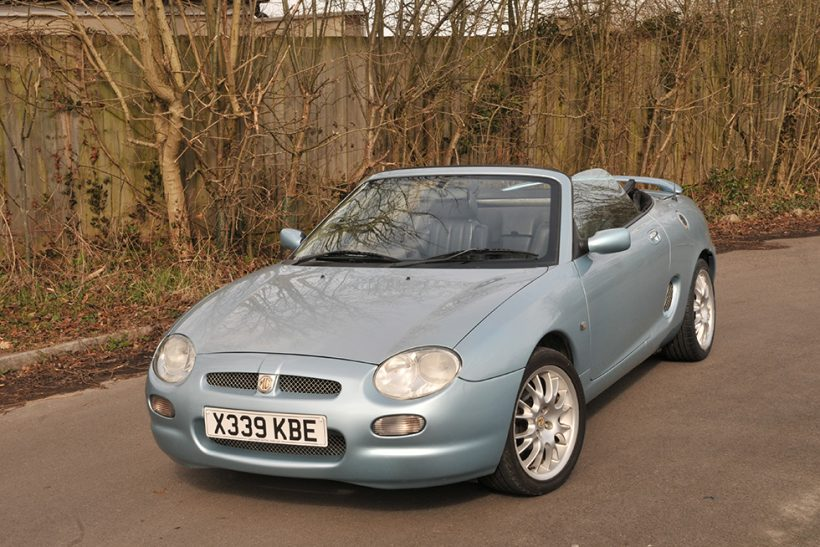car: (147, 166, 719, 499)
